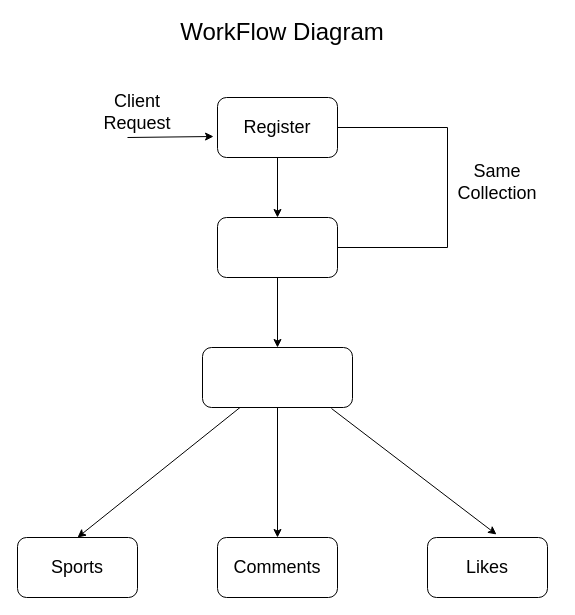
The diagram is 575 pixels wide and 615 high, and some of its shapes have lost their labels. Here are the shapes that lost their labels. From the top down, the box of each, then its label:
(216, 216, 338, 278): Login
(202, 346, 352, 408): UserPost
